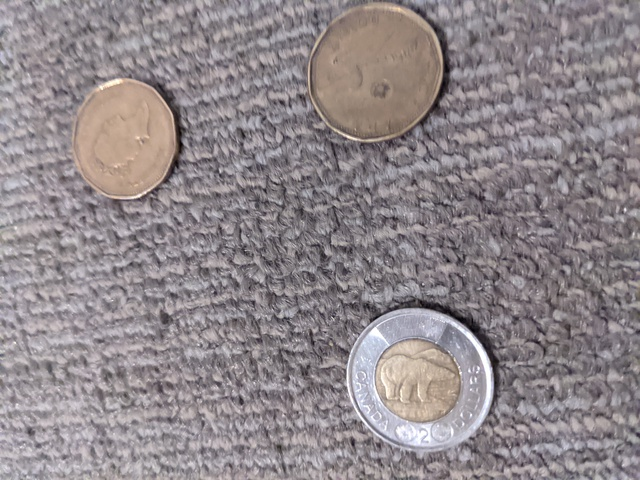loonie: (290, 22, 469, 142), (53, 60, 191, 205)
twonie: (337, 312, 510, 457)
